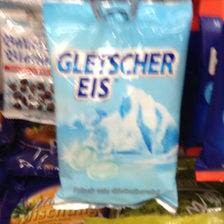candy: (44, 2, 191, 210)
